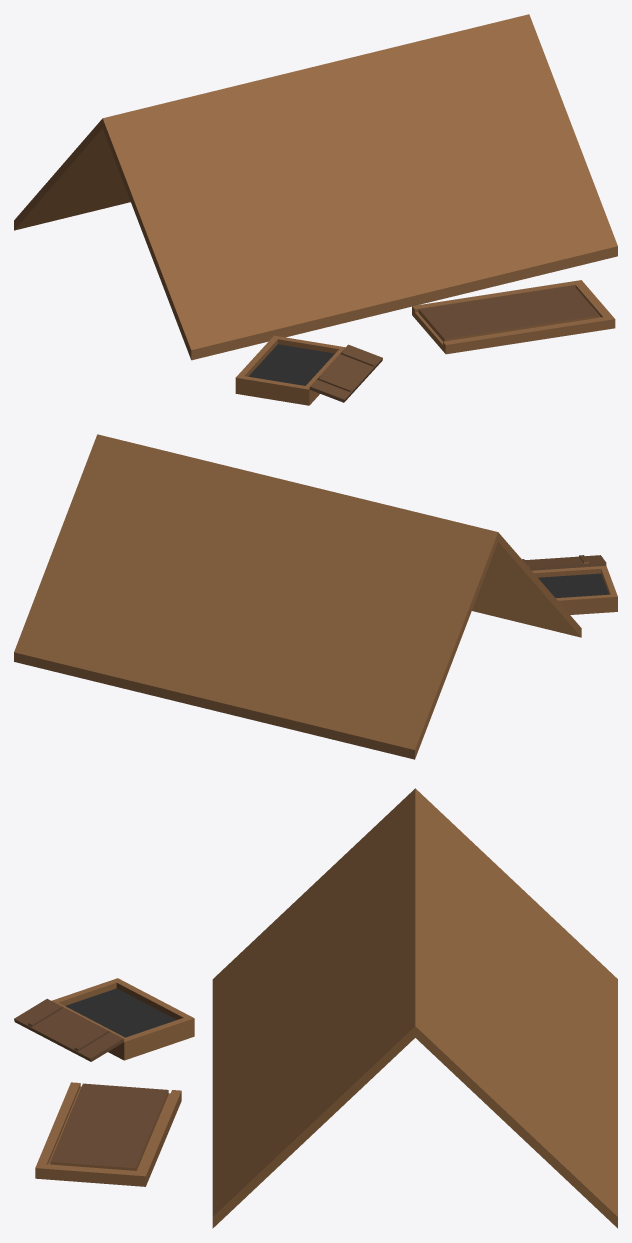
File: House_build_mat.fbx
3 views of the same model, one above another, from view 1: azimuth 30°, elevation 25°; view 2: azimuth 150°, elevation 25°; view 3: azimuth 270°, elevation 25° (orthographic). The views are drawn at different scales.
Parts seen in each view (by area): view 1: House_build_mat; view 2: House_build_mat; view 3: House_build_mat.
Boxes of the visible parts, <box> form: House_build_mat: <box>14,14,617,405</box>; House_build_mat: <box>14,434,617,759</box>; House_build_mat: <box>14,788,617,1228</box>.
Bounding box in the file's own units: 284 × 115 × 304.
